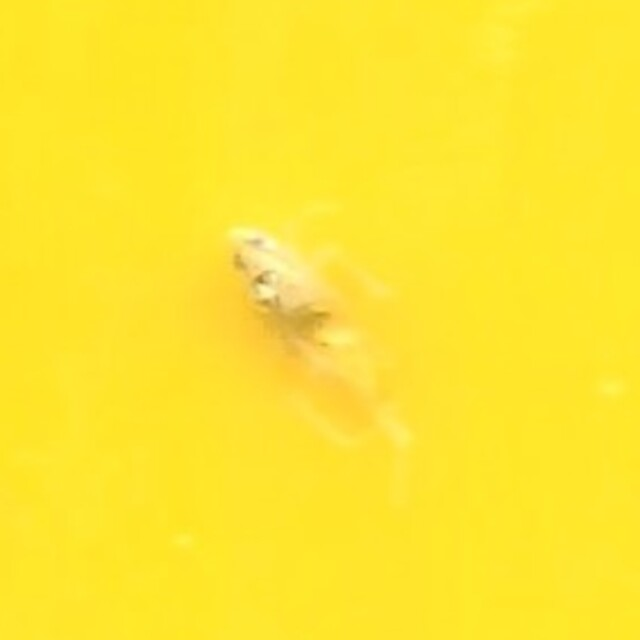Hemiptera: (227, 215, 413, 425)
